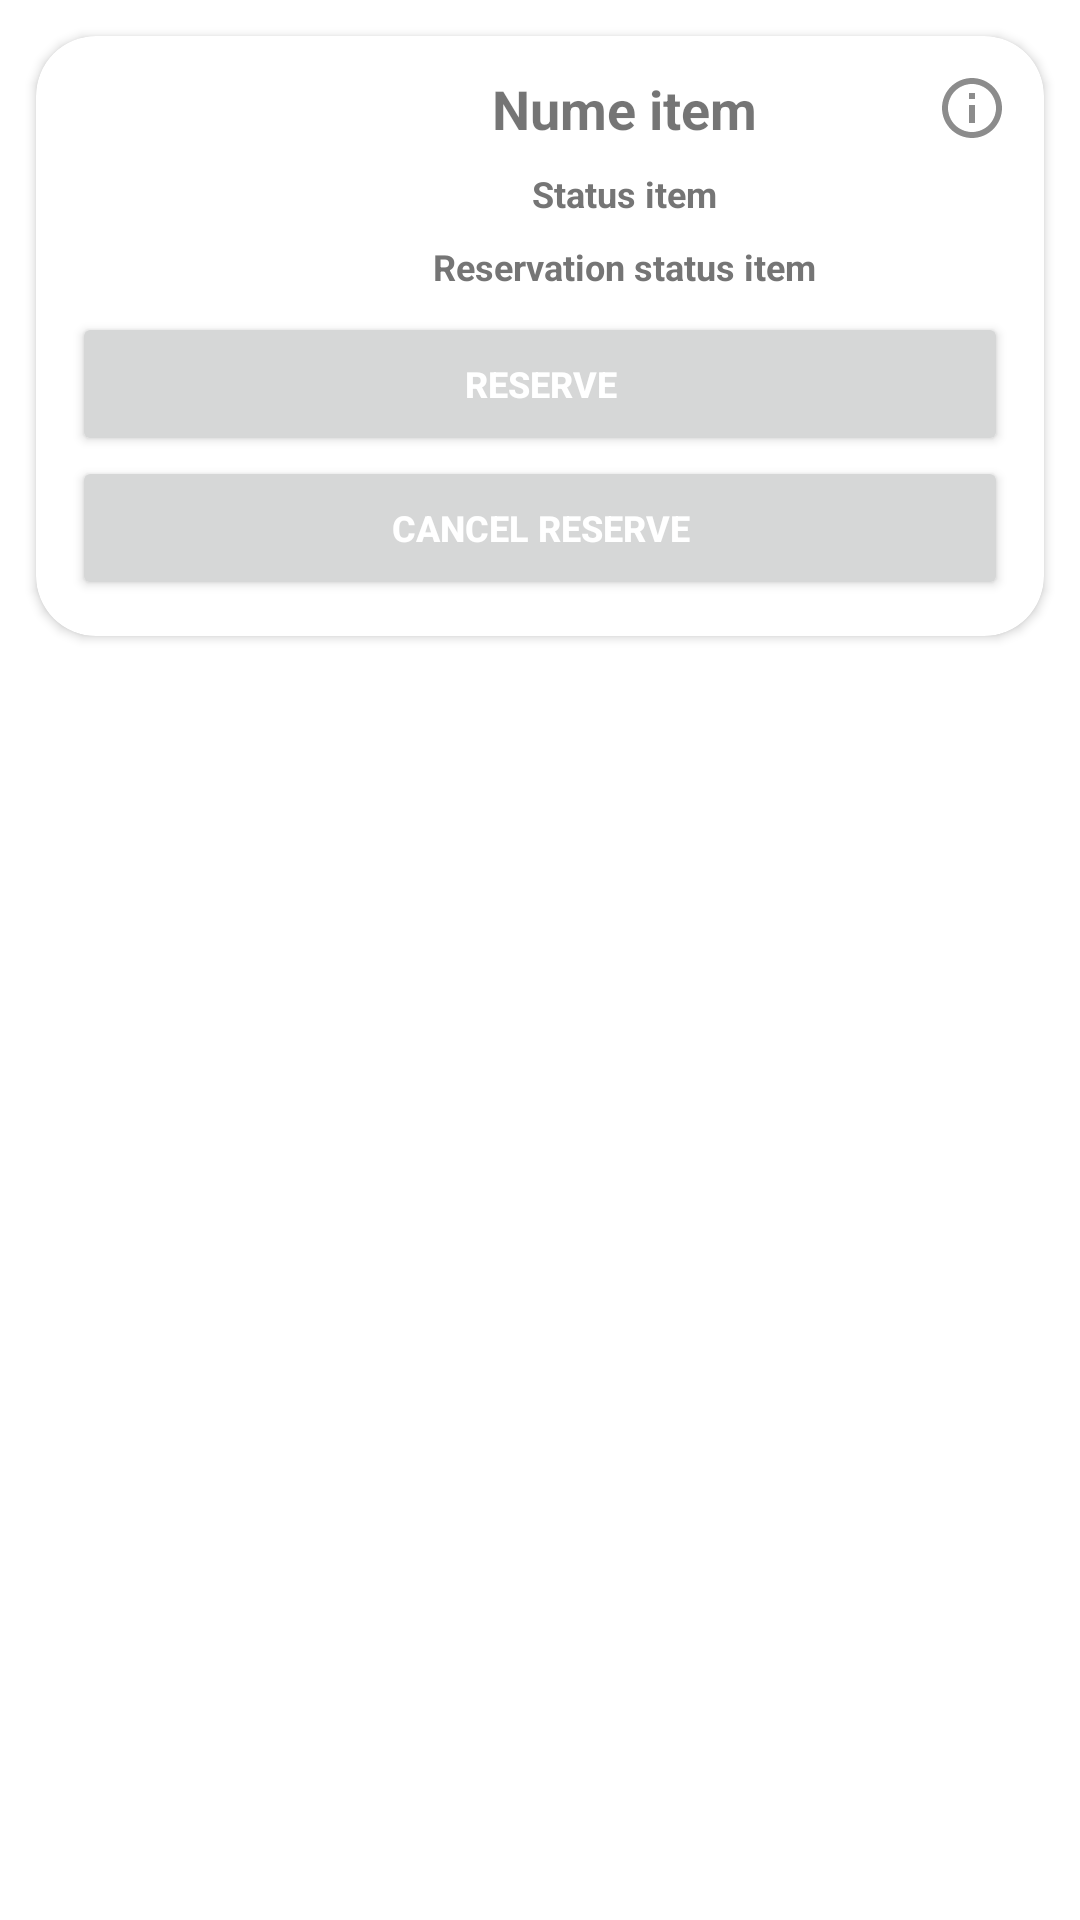

Named icons in this screenshot (1080 x 1920) and their centers, [x,y]:
info: [972,108]
